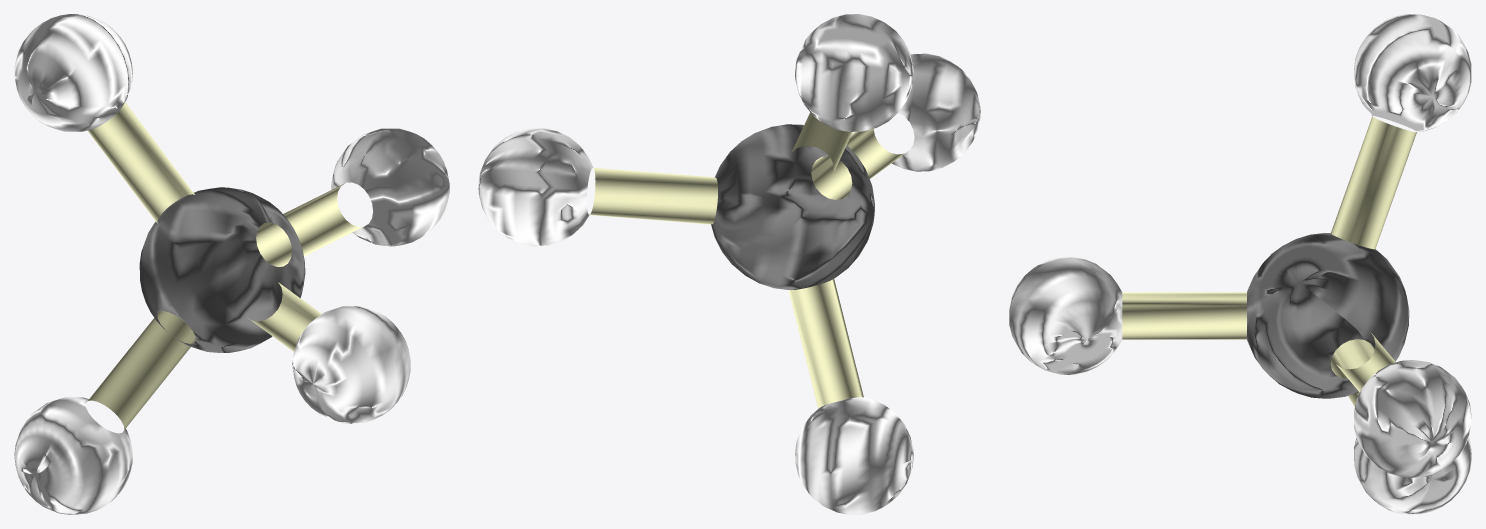
File: methane.gltf
3 renders of one model, left to right at view 1: azimuth 30°, elevation 25°; view 2: azimuth 150°, elevation 25°; view 3: azimuth 270°, elevation 25°, orthographic.
Parts seen in each view (by area): view 1: ?????????1; view 2: ?????????1; view 3: ?????????1.
Boxes of the visible parts, box(x1,y1,x2,y2) form: ?????????1: box(14, 14, 449, 514); ?????????1: box(478, 14, 980, 514); ?????????1: box(1009, 14, 1471, 514).
Size of the model in its own units: 20.38 by 22.8 by 19.49.
